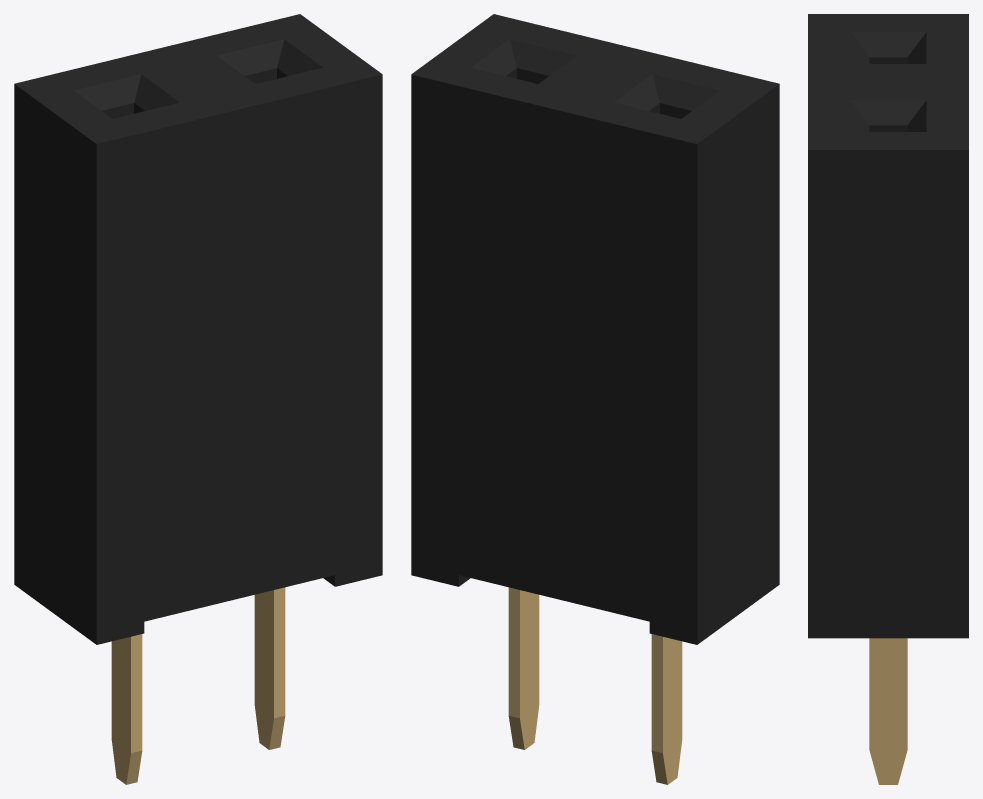
File: kc-pinsocket_2x01_p2.54mm_vertical.glb
The picture shows the model from 3 angles, left to right: view 1: azimuth 30°, elevation 25°; view 2: azimuth 150°, elevation 25°; view 3: azimuth 270°, elevation 25°; orthographic projection. The views are drawn at different scales.
Visible parts, largest first — view 1: 0_0_0_0, 0.75_0.5_0.25_0.9; view 2: 0_0_0_0, 0.75_0.5_0.25_0.9; view 3: 0_0_0_0, 0.75_0.5_0.25_0.9.
Part boxes in pixels (x1=…): 0_0_0_0: x1=14, y1=14, x2=382, y2=644; 0.75_0.5_0.25_0.9: x1=111, y1=587, x2=285, y2=784; 0_0_0_0: x1=411, y1=14, x2=779, y2=644; 0.75_0.5_0.25_0.9: x1=508, y1=587, x2=682, y2=784; 0_0_0_0: x1=808, y1=14, x2=968, y2=638; 0.75_0.5_0.25_0.9: x1=869, y1=638, x2=907, y2=784.
Size of the model in its own units: 0.508 by 1.16 by 0.254.
